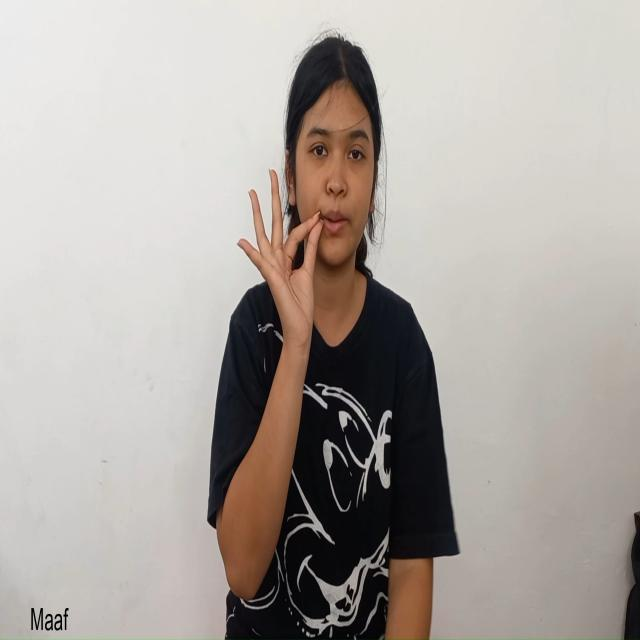Maaf -BISINDO-: (230, 28, 392, 378)
